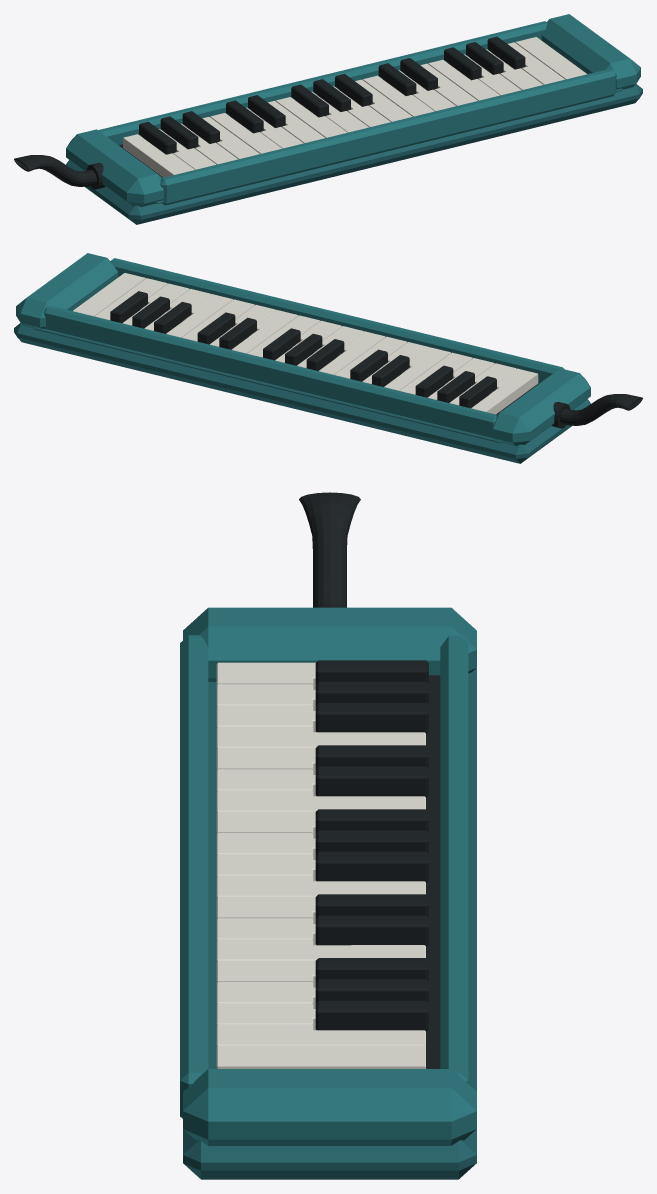
The model's file is A-NEW-20261026-MELODICA-001_LOD2_R1.glb.
3 views of the same model, one above another, from view 1: azimuth 30°, elevation 25°; view 2: azimuth 150°, elevation 25°; view 3: azimuth 270°, elevation 25° (orthographic). The views are drawn at different scales.
Parts seen in each view (by area): view 1: upper long rim, closed lower shell, upper long rim.001, thick rounded end shell, thick rounded end shell.001, white key midi 53, hollow curved mouthpiece, white key midi 84, white key midi 65, white key midi 77, white key midi 60, white key midi 72 (+26 smaller); view 2: upper long rim.001, closed lower shell, upper long rim, thick rounded end shell, thick rounded end shell.001, shell seam lip.001, white key midi 53, hollow curved mouthpiece, white key midi 84, white key midi 60, white key midi 72, white key midi 77 (+27 smaller); view 3: thick rounded end shell.001, thick rounded end shell, closed lower shell, upper long rim, upper long rim.001, white key midi 84, keybed support plate, hollow curved mouthpiece, white key midi 83, white key midi 59, white key midi 71, white key midi 64 (+28 smaller).
Boxes of the visible parts, bbox=[...] form: upper long rim: bbox=[160, 69, 616, 205]; closed lower shell: bbox=[66, 84, 642, 224]; upper long rim.001: bbox=[98, 21, 547, 145]; thick rounded end shell: bbox=[66, 129, 163, 206]; thick rounded end shell.001: bbox=[541, 14, 640, 89]; white key midi 53: bbox=[123, 134, 194, 177]; hollow curved mouthpiece: bbox=[14, 155, 96, 186]; white key midi 84: bbox=[515, 37, 586, 79]; white key midi 65: bbox=[275, 97, 347, 137]; white key midi 77: bbox=[428, 59, 499, 100]; white key midi 60: bbox=[210, 113, 281, 153]; white key midi 72: bbox=[363, 75, 434, 116]; upper long rim.001: bbox=[44, 305, 496, 437]; closed lower shell: bbox=[14, 323, 590, 463]; upper long rim: bbox=[110, 258, 564, 384]; thick rounded end shell: bbox=[491, 368, 590, 445]; thick rounded end shell.001: bbox=[16, 253, 118, 328]; shell seam lip.001: bbox=[34, 327, 501, 442]; white key midi 53: bbox=[471, 368, 538, 414]; hollow curved mouthpiece: bbox=[560, 394, 642, 425]; white key midi 84: bbox=[73, 273, 145, 316]; white key midi 60: bbox=[384, 347, 450, 390]; white key midi 72: bbox=[231, 310, 298, 353]; white key midi 77: bbox=[166, 294, 232, 337]; thick rounded end shell.001: bbox=[183, 1069, 476, 1145]; thick rounded end shell: bbox=[183, 607, 476, 681]; closed lower shell: bbox=[183, 668, 476, 1179]; upper long rim: bbox=[180, 635, 208, 1118]; upper long rim.001: bbox=[440, 635, 468, 1083]; white key midi 84: bbox=[216, 1045, 425, 1068]; keybed support plate: bbox=[426, 675, 440, 1068]; hollow curved mouthpiece: bbox=[299, 492, 360, 607]; white key midi 83: bbox=[216, 1024, 425, 1046]; white key midi 59: bbox=[216, 726, 425, 748]; white key midi 71: bbox=[216, 875, 425, 897]; white key midi 64: bbox=[216, 790, 425, 812].
Size of the model in its own units: 0.4811 by 0.054 by 0.105.
